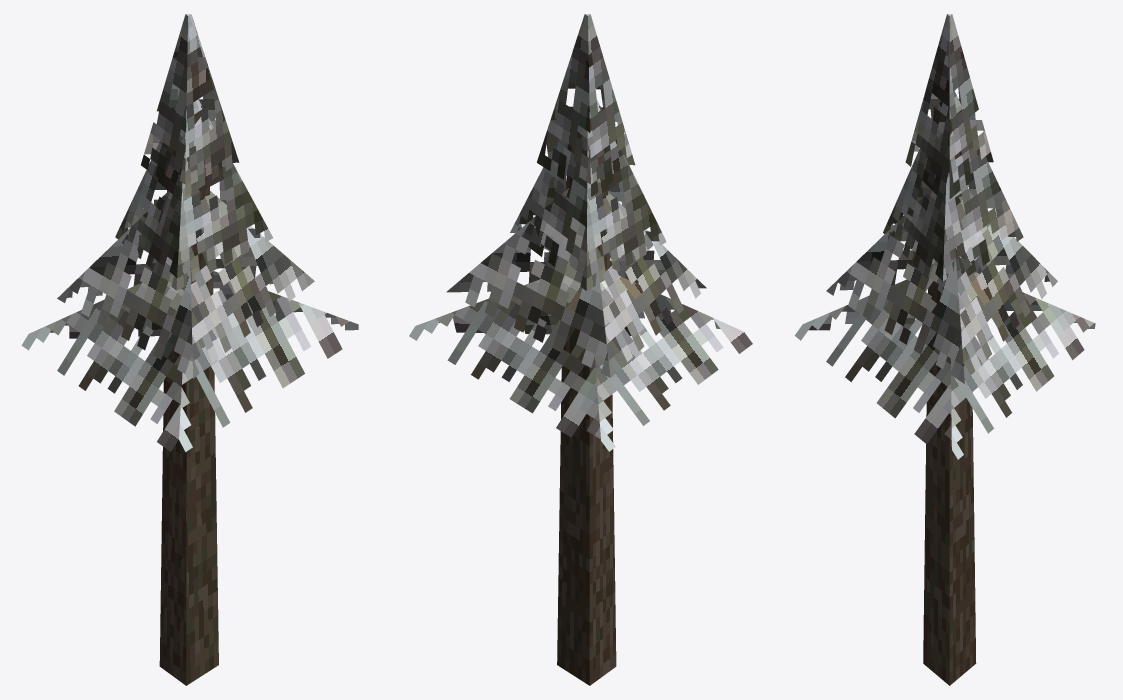
Rendered from Tree.glb.
3 renders of one model, left to right at view 1: azimuth 30°, elevation 25°; view 2: azimuth 150°, elevation 25°; view 3: azimuth 270°, elevation 25°, orthographic.
Visible parts, largest first — view 1: Tree; view 2: Tree; view 3: Tree.
Boxes of the visible parts, x1,y1,x2,y2 form: Tree: (21, 14, 358, 685); Tree: (409, 14, 752, 685); Tree: (794, 14, 1095, 685).
Bounding box in the file's own units: 3.65 × 8.2 × 3.63.
Materials: 2 (2 with a texture image).
